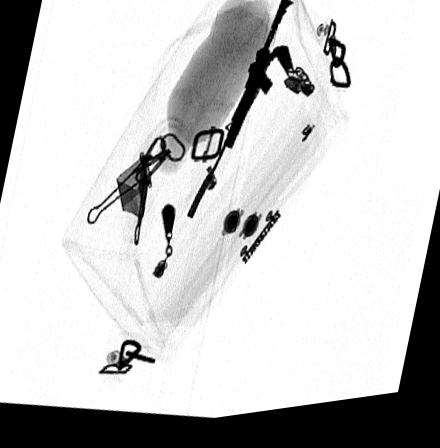Gun: (186, 2, 295, 224)
